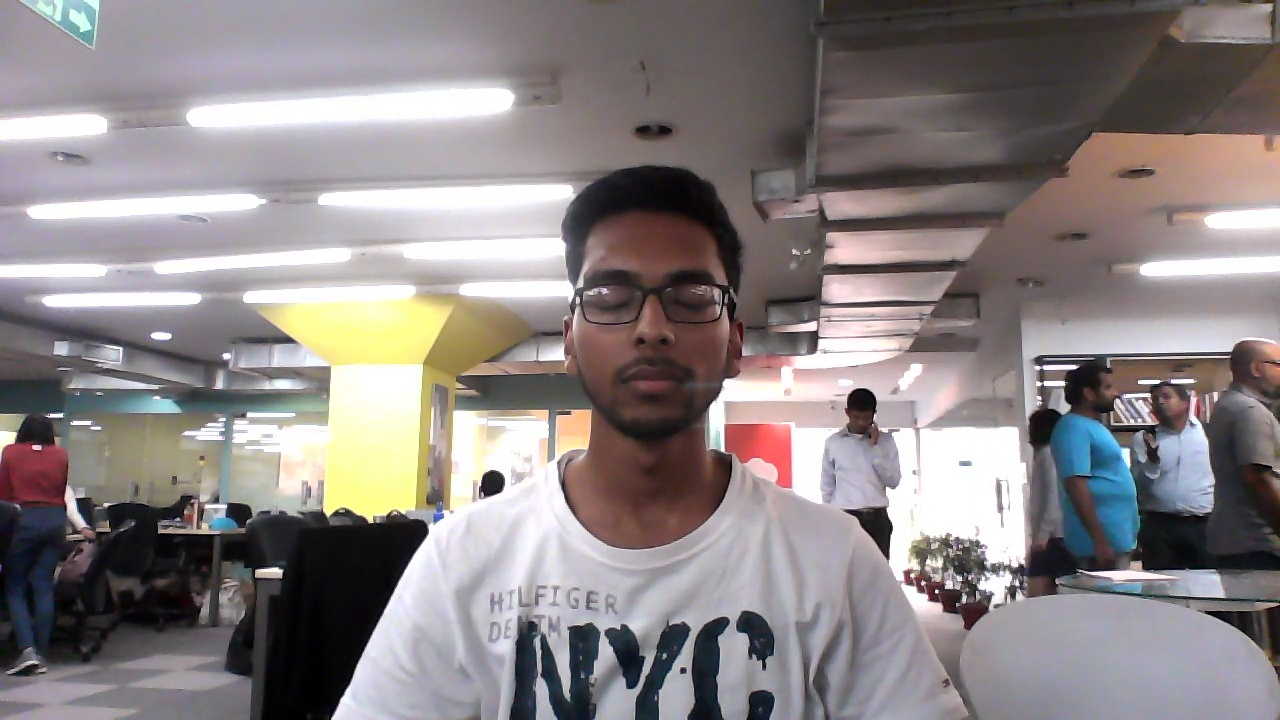closed: (558, 161, 755, 454)
